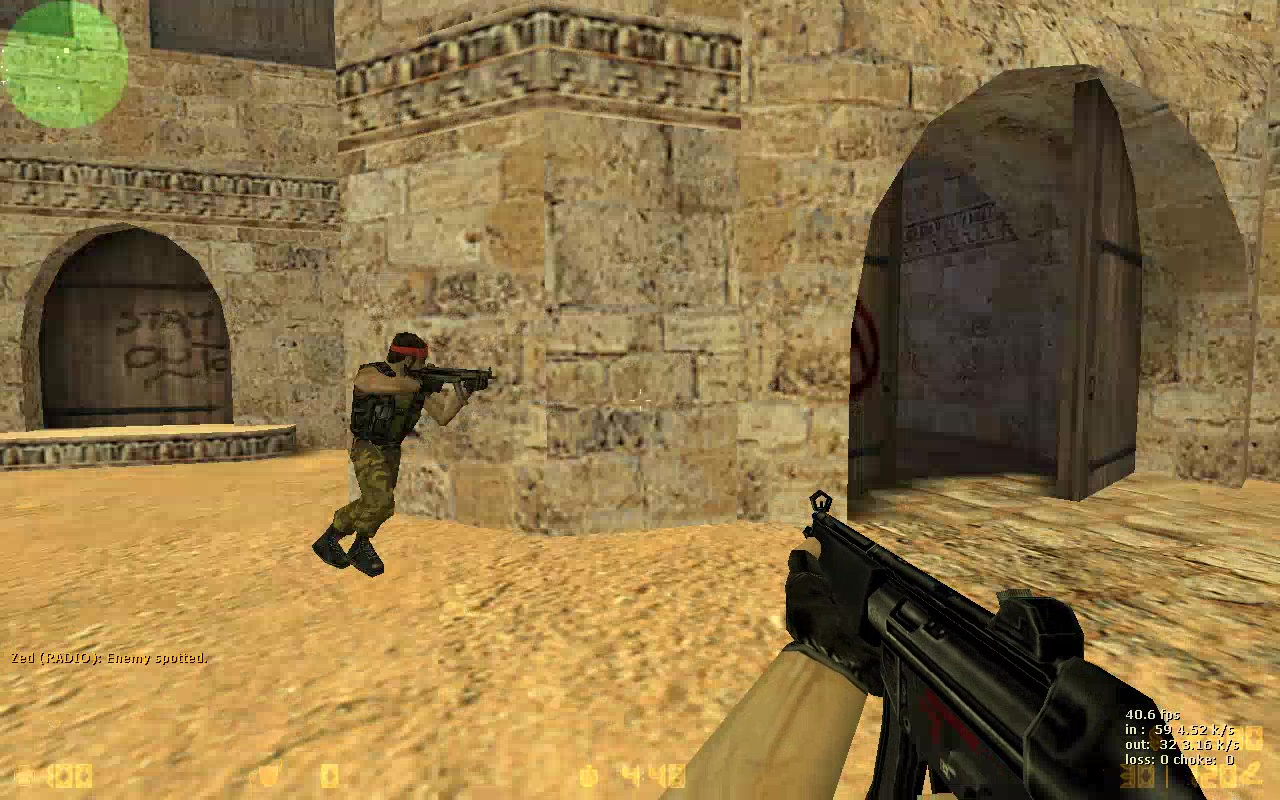terr1: (305, 333, 472, 582)
